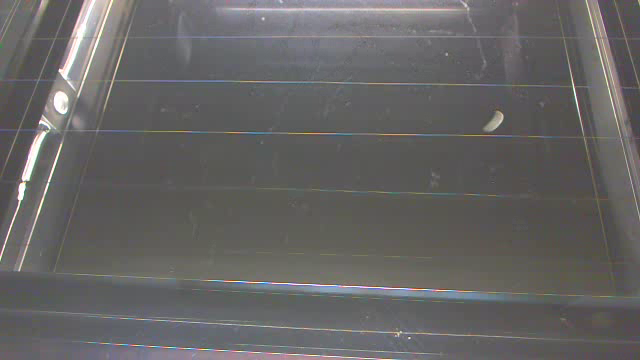Alfa: (482, 111, 511, 137)
